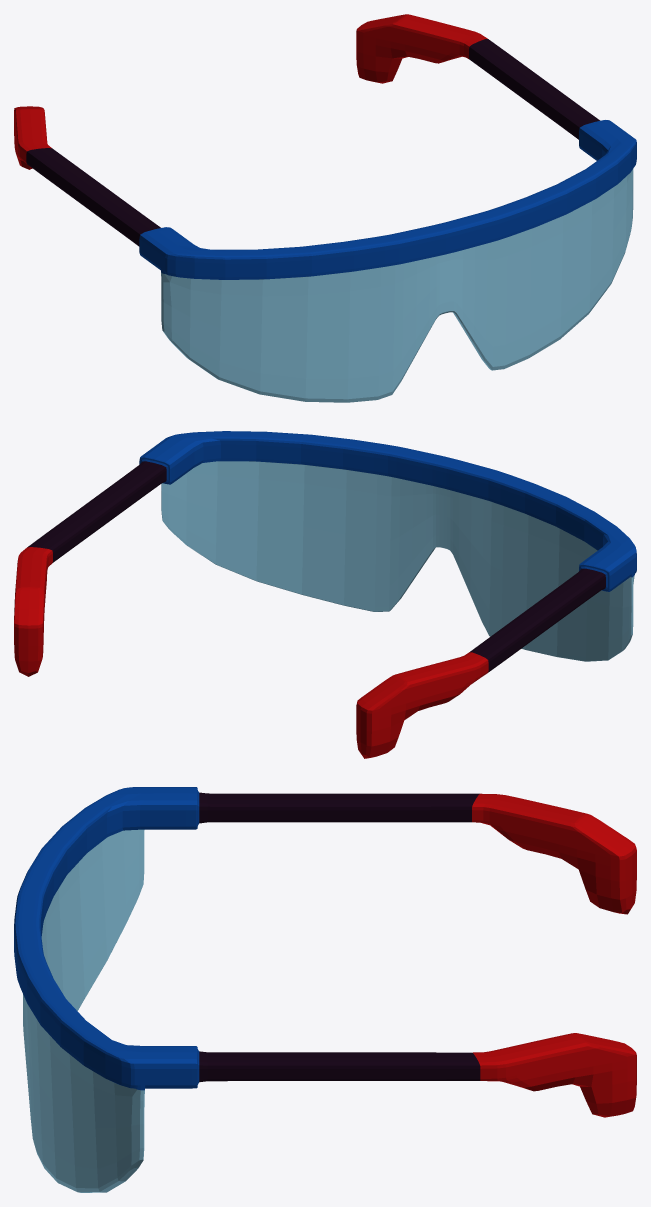
The model's file is Gafas.fbx.
3 views of the same model, one above another, from view 1: azimuth 30°, elevation 25°; view 2: azimuth 150°, elevation 25°; view 3: azimuth 270°, elevation 25° (orthographic). The views are drawn at different scales.
Visible parts, largest first — view 1: Gafas; view 2: Gafas; view 3: Gafas.
Boxes of the visible parts, x1,y1,x2,y2 form: Gafas: (14,14,636,402); Gafas: (14,431,636,758); Gafas: (14,787,636,1192).
Bounding box in the file's own units: 18 × 5.9 × 17.08.
